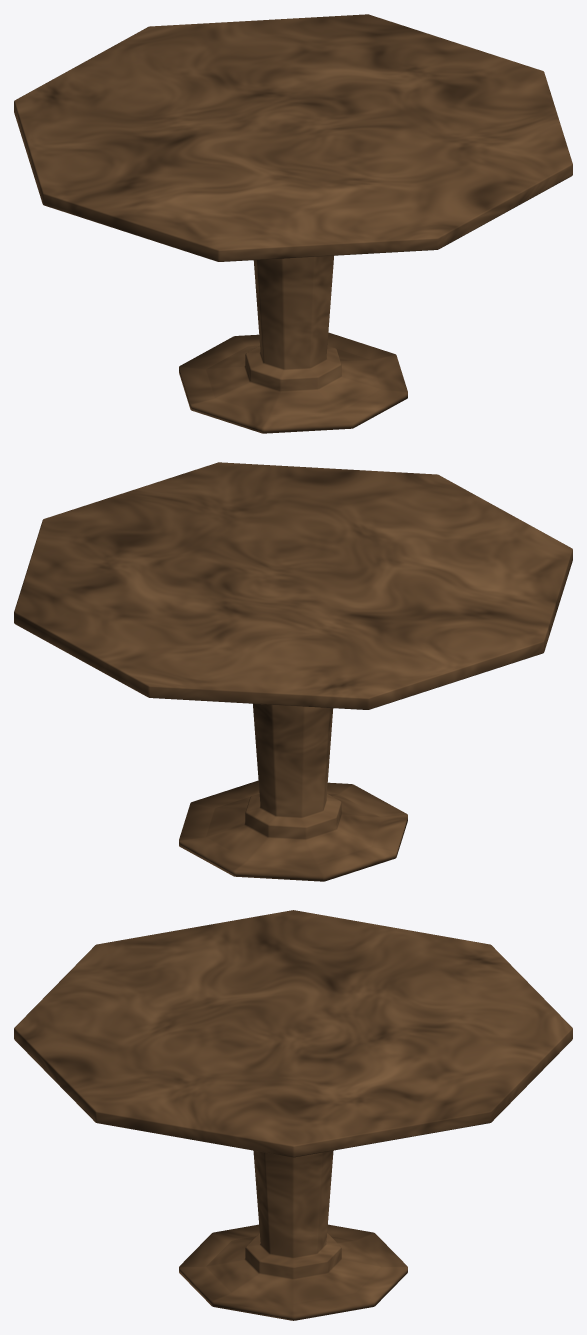
File: jadalnia_stół 1.fbx
3 renders of one model, top to bottom at view 1: azimuth 30°, elevation 25°; view 2: azimuth 150°, elevation 25°; view 3: azimuth 270°, elevation 25°, orthographic. The views are drawn at different scales.
Visible parts, largest first — view 1: Cylinder; view 2: Cylinder; view 3: Cylinder.
Boxes of the visible parts, <box> form: Cylinder: <box>14,14,572,433</box>; Cylinder: <box>14,462,572,881</box>; Cylinder: <box>14,910,572,1320</box>.
Size of the model in its own units: 210 by 101 by 210.
Materials: 1 (1 with a texture image).
